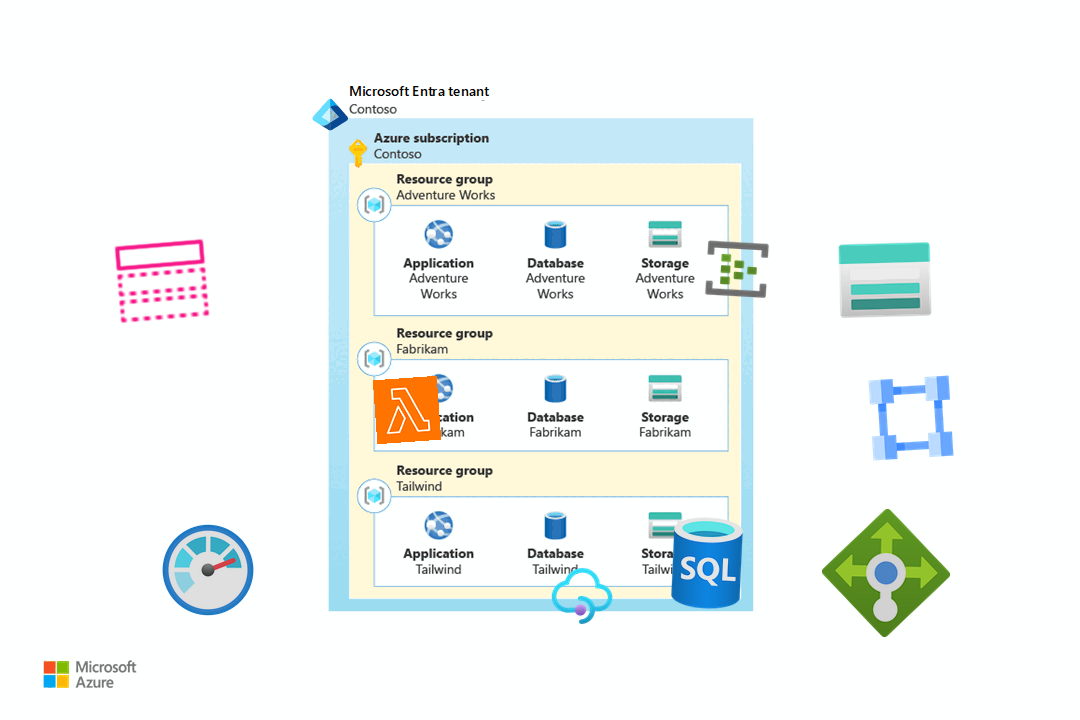aws_lambda: (372, 375, 442, 445)
aws_simple_notification_service_topic: (110, 229, 214, 333)
azure_api_management_services: (548, 562, 616, 630)
azure_event_hubs: (703, 235, 771, 303)
azure_load_balancers: (820, 507, 952, 639)
azure_monitor: (159, 521, 257, 619)
azure_sql_database: (656, 512, 758, 614)
azure_storage_accounts: (835, 230, 935, 330)
gcp_virtual_private_cloud: (860, 367, 962, 469)
